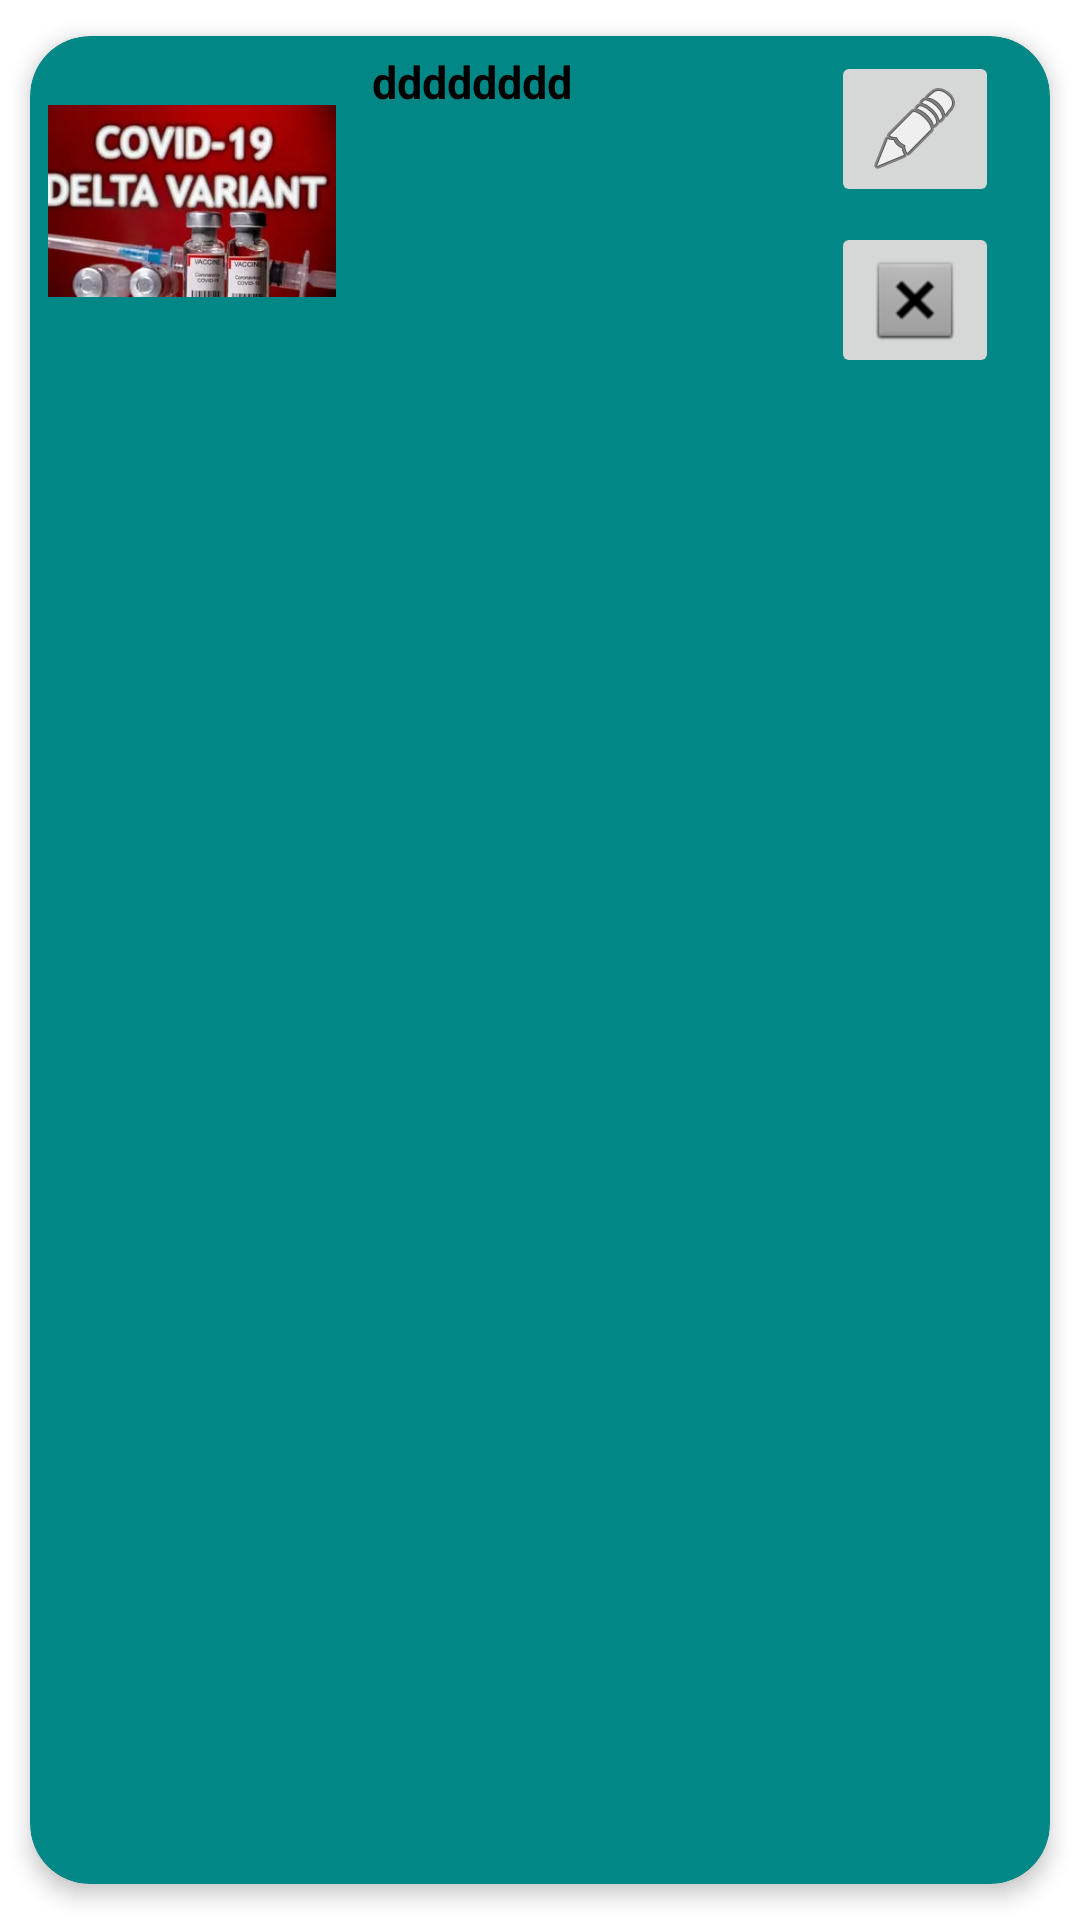

Screen size 1080 × 1920. Icon name, then its box in pixels as (x1, y1, x2, y2):
edit: (843, 69, 987, 189)
noticia: (48, 105, 336, 297)
